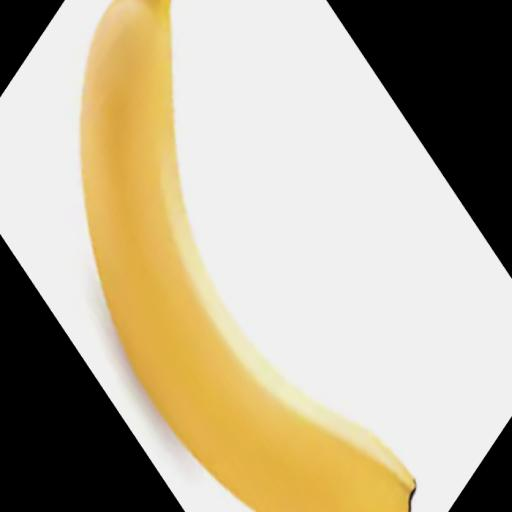banana-ripe: (42, 0, 424, 512)
